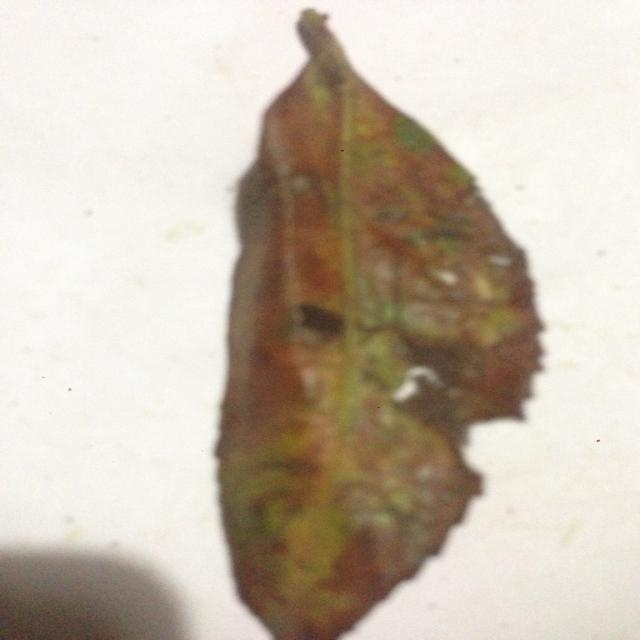Red Leaf Spot: (206, 0, 534, 631)
